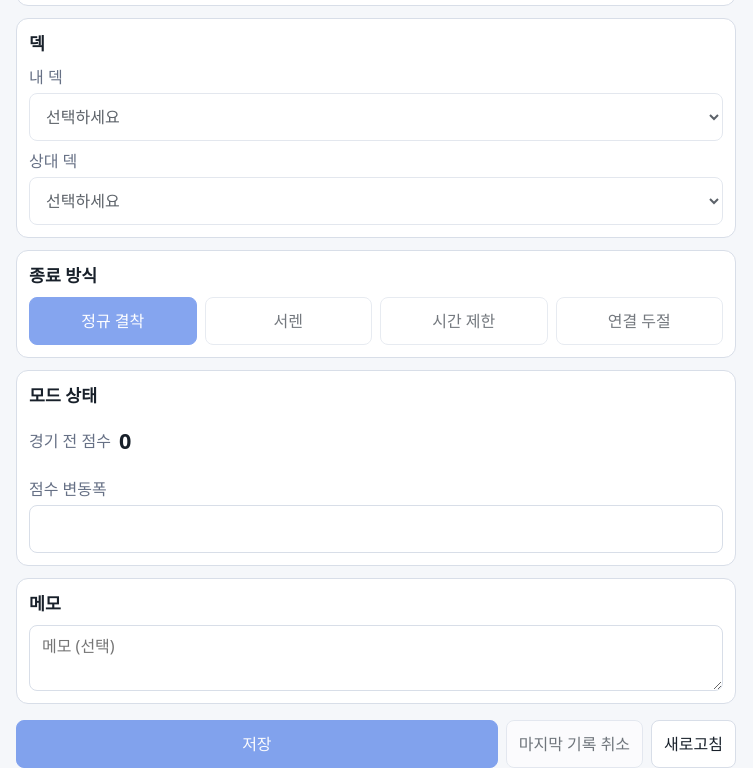
Test: 저장 영수증과 재시도 › 초기 조회 실패를 0점으로 사용하지 않고 새로고침으로 복구한다
(page scrolled)
Expected: the button "저장" is disabled, [16,720,498,767]
Click the button "새로고침" at [694, 744], box [651,720,736,767]
(page scrolled)
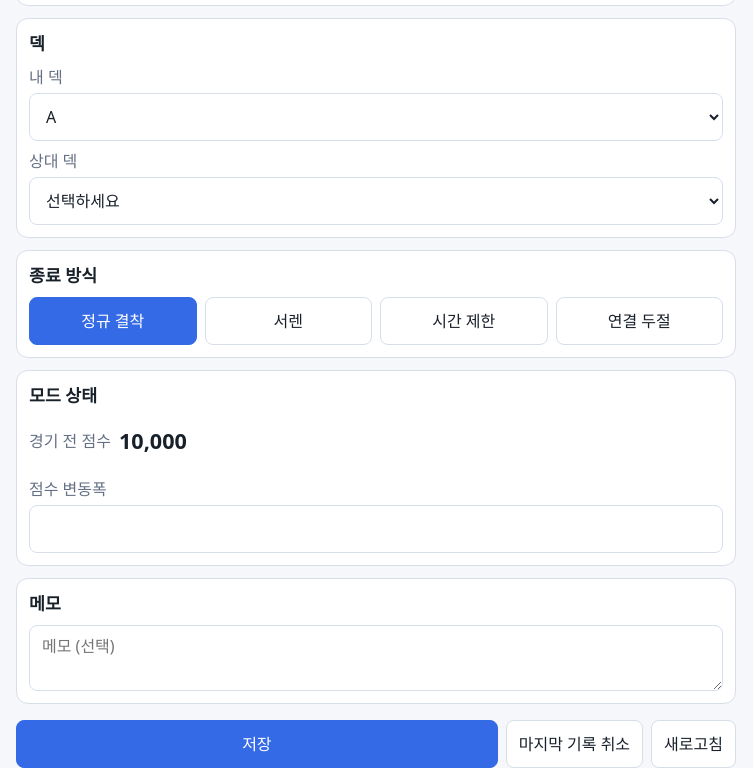
Now the button "저장" is enabled, box [16,720,498,767]
